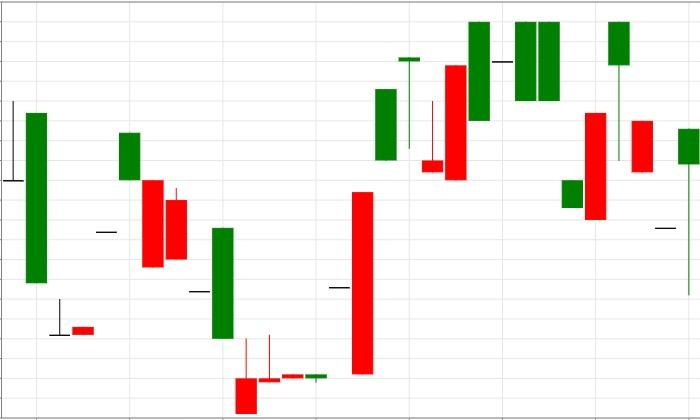bullish_engulfing_rise: (469, 21, 607, 220)
inverse_hammer_rise: (119, 133, 257, 414)
